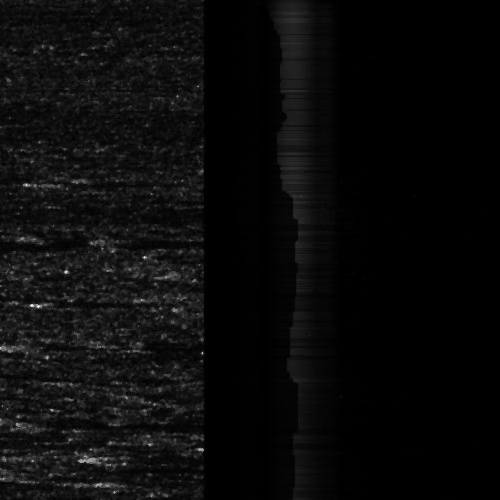object: (57, 475, 162, 486), (13, 297, 66, 304)
shadow: (0, 236, 89, 255), (0, 435, 96, 448), (109, 475, 198, 486), (40, 297, 126, 304)
